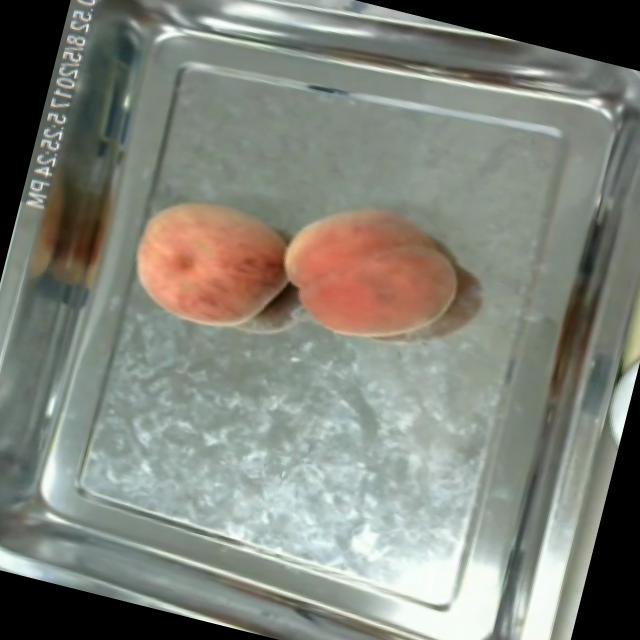Fruit: (265, 178, 478, 364), (116, 177, 306, 348)
